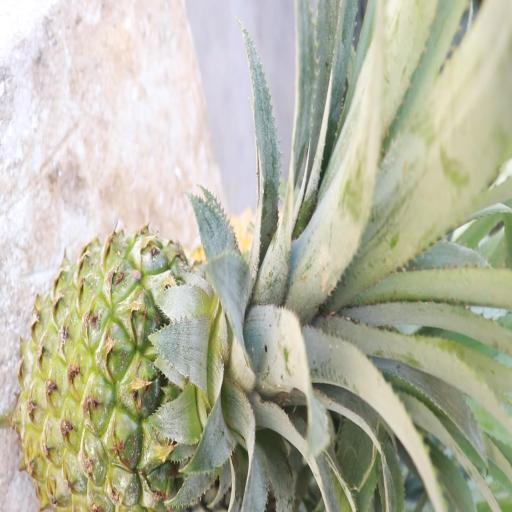------------------------------: (23, 234, 289, 512)
